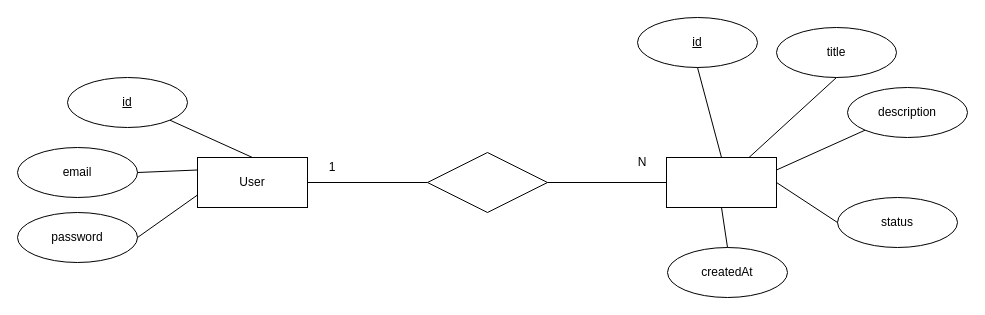
Image size: 985x315. Some labels were removed from this diagram. The centre of each missing label's shape, as x and y in pixels:
add: the point at 487,182
Task: the point at 721,182
